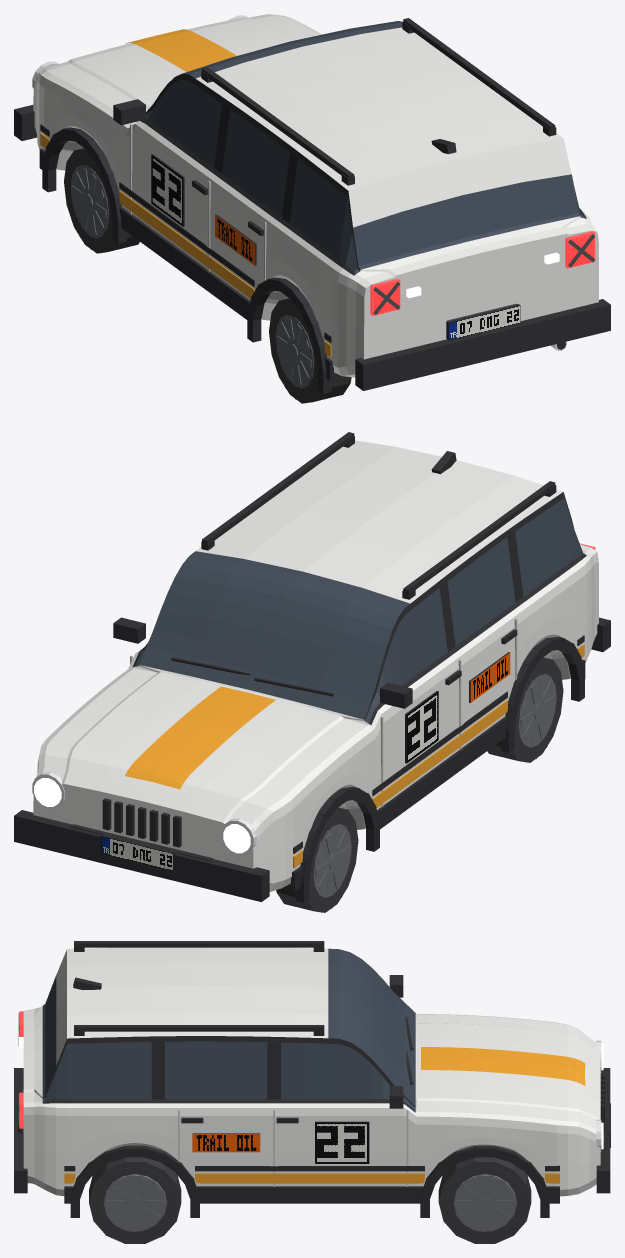
File: dingo.glb
The picture shows the model from 3 angles, top to bottom: view 1: azimuth 30°, elevation 25°; view 2: azimuth 150°, elevation 25°; view 3: azimuth 270°, elevation 25°; orthographic projection. The views are drawn at different scales.
Parts seen in each view (by area): view 1: body.016, livery.015, wheel_RL.016, wheel_FL.016; view 2: body.016, livery.015, wheel_FL.016, wheel_RL.016; view 3: body.016, livery.015, wheel_FR.016, wheel_RR.016.
Part boxes in pixels (x1,y1,x2,y2): body.016: (14, 14, 610, 393); livery.015: (40, 29, 331, 357); wheel_RL.016: (269, 298, 351, 403); wheel_FL.016: (64, 148, 139, 253); body.016: (14, 432, 610, 902); livery.015: (125, 635, 584, 868); wheel_FL.016: (276, 807, 358, 912); wheel_RL.016: (487, 657, 563, 762); body.016: (14, 941, 610, 1217); livery.015: (64, 1047, 585, 1183); wheel_FR.016: (438, 1157, 531, 1243); wheel_RR.016: (89, 1157, 181, 1243).
Bounding box in the file's own units: 2.11 × 1.74 × 4.38.
15 materials, 5 textured.
